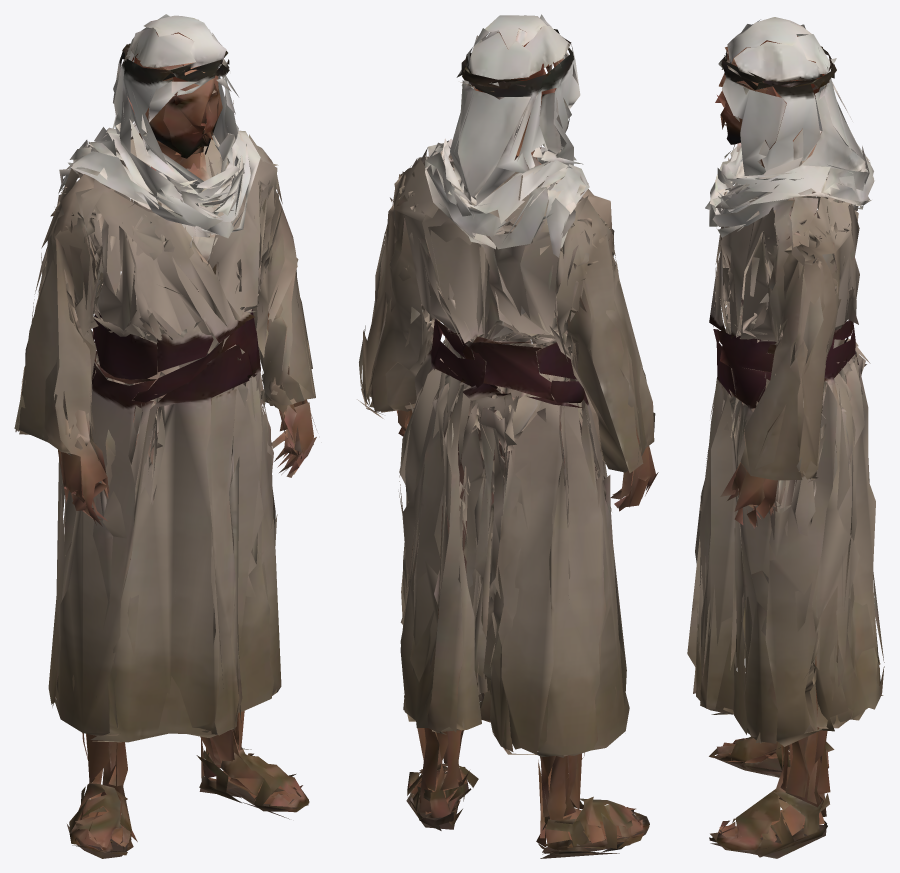
The model's file is traveler-stand.glb.
3 renders of one model, left to right at view 1: azimuth 30°, elevation 25°; view 2: azimuth 150°, elevation 25°; view 3: azimuth 270°, elevation 25°, orthographic. The views are drawn at different scales.
Parts seen in each view (by area): view 1: world; view 2: world; view 3: world.
Boxes of the visible parts, <box> form: world: <box>14,14,316,858</box>; world: <box>357,14,658,858</box>; world: <box>687,17,884,858</box>.
Bounding box in the file's own units: 0.382 × 1.01 × 0.2316.
1 material, 1 textured.
